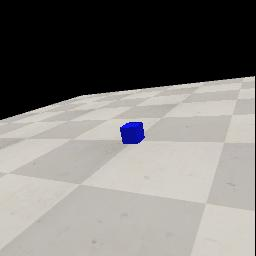box: (120, 122, 145, 144)
